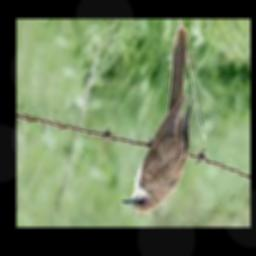Cuckoo: (121, 25, 193, 214)
